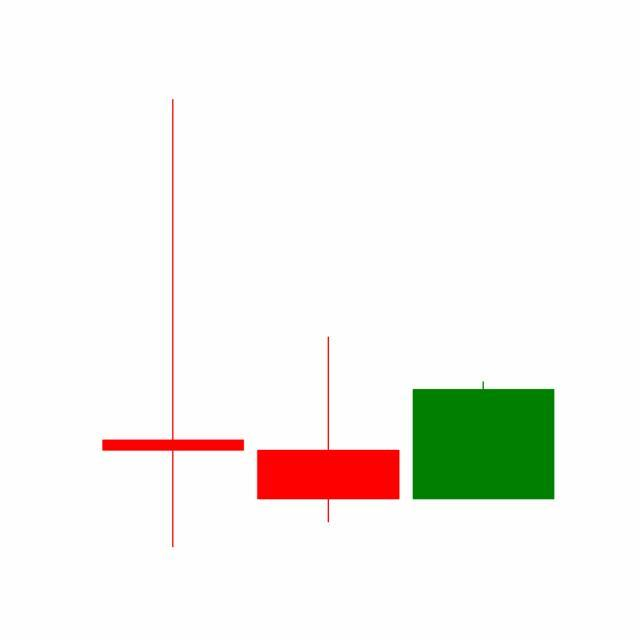Marubozu: (406, 381, 562, 502)
